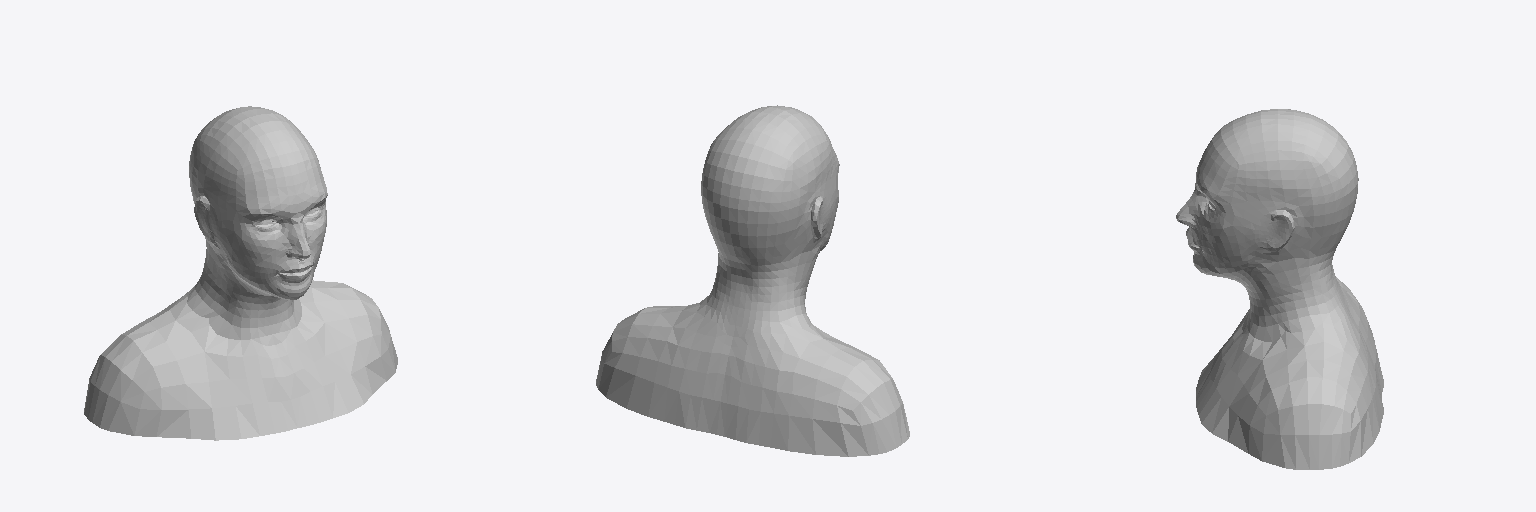
File: Bust.obj
3 renders of one model, left to right at view 1: azimuth 30°, elevation 25°; view 2: azimuth 150°, elevation 25°; view 3: azimuth 270°, elevation 25°, orthographic.
Parts seen in each view (by area): view 1: Object01; view 2: Object01; view 3: Object01.
Boxes of the visible parts, x1,y1,x2,y2 form: Object01: [84, 106, 397, 440]; Object01: [596, 105, 909, 456]; Object01: [1176, 109, 1383, 469].
Size of the model in its own units: 20.63 by 18.76 by 12.52.